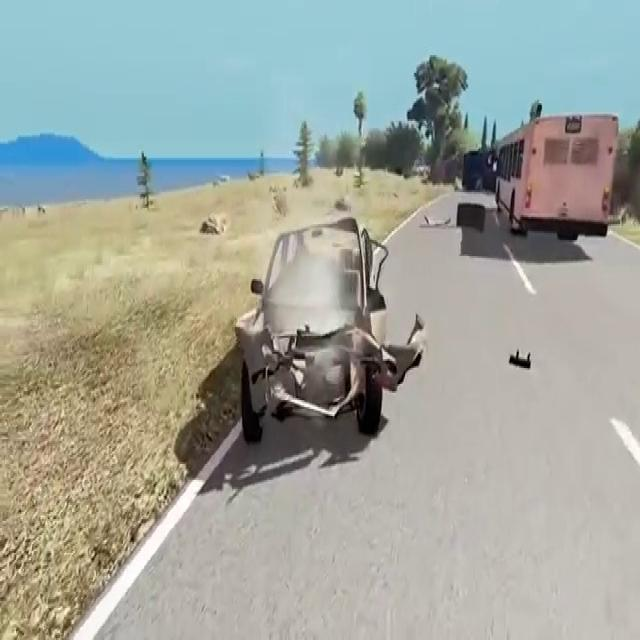severe: (232, 210, 425, 453)
